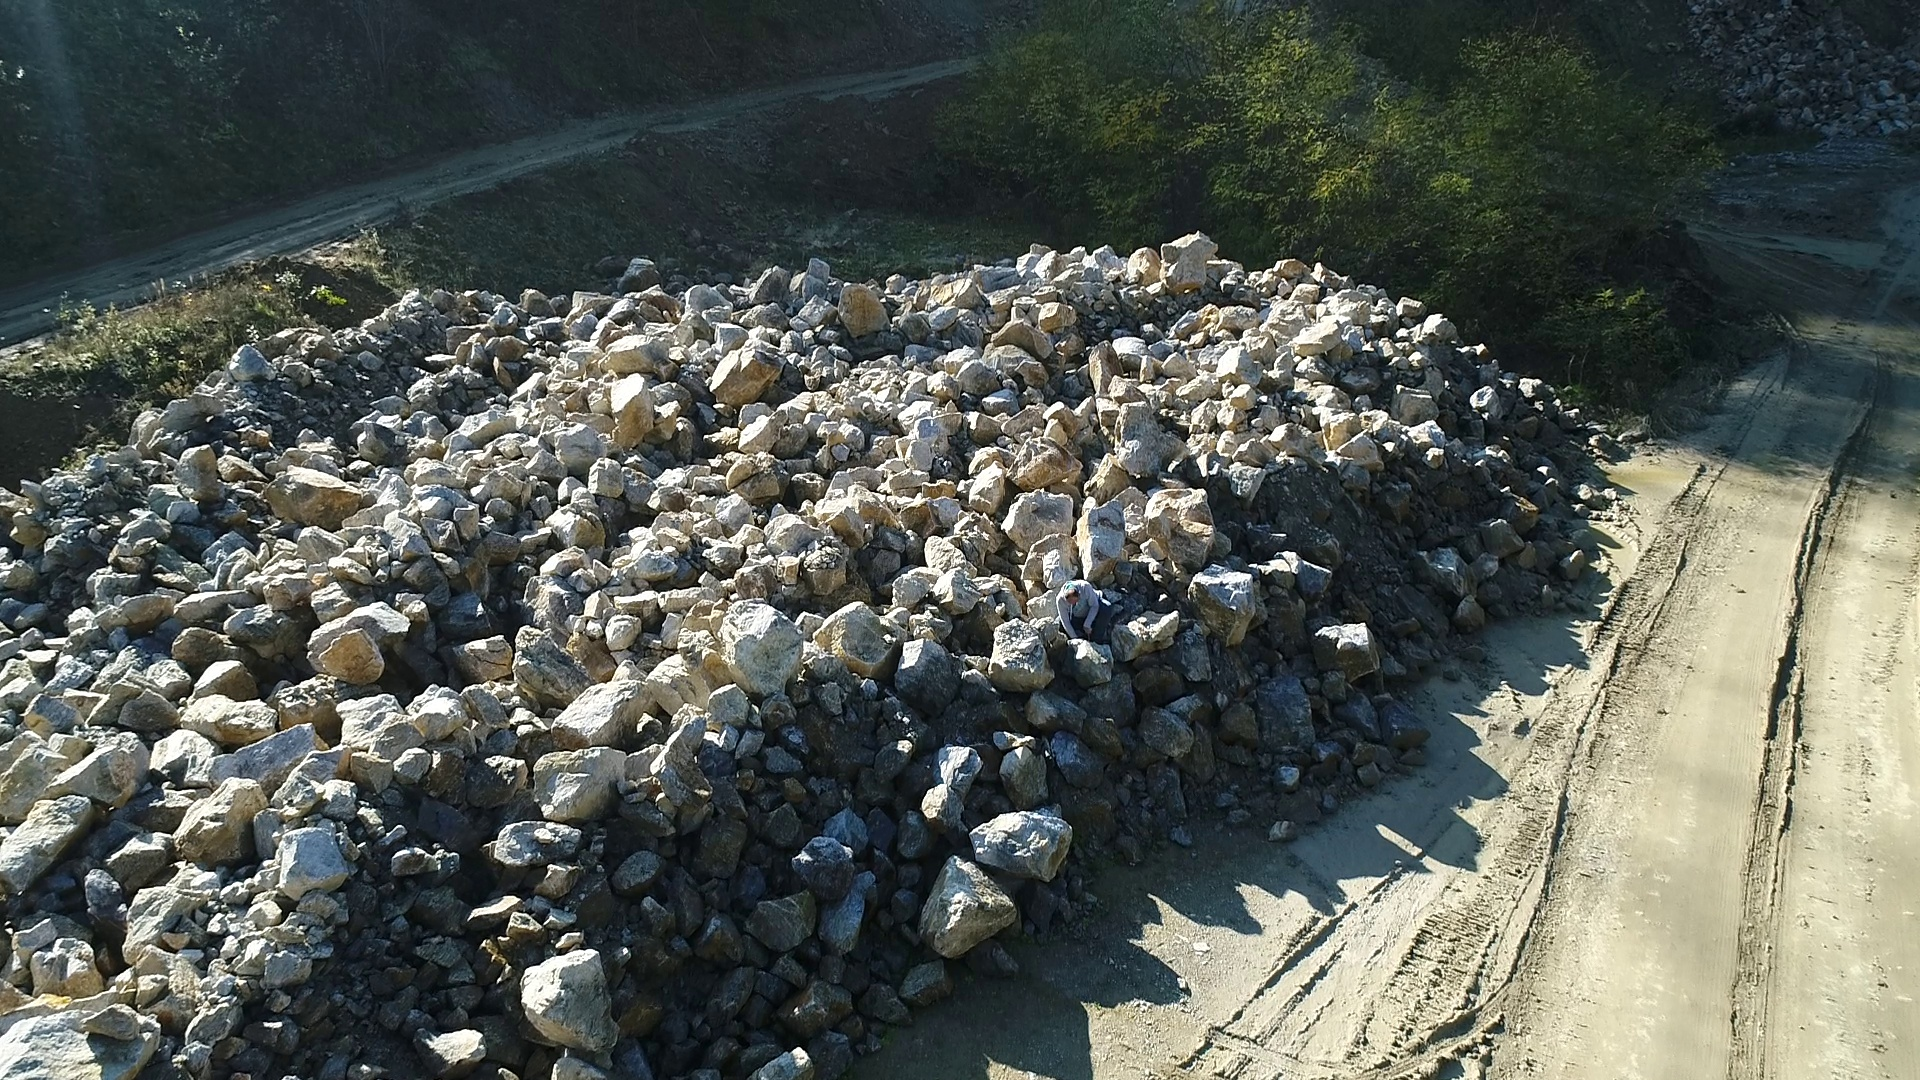person: (1054, 576, 1113, 642)
